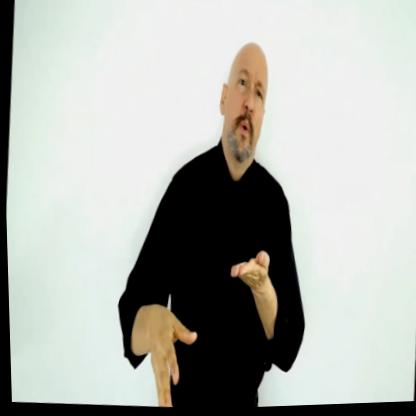Expensive: (134, 230, 273, 412)
